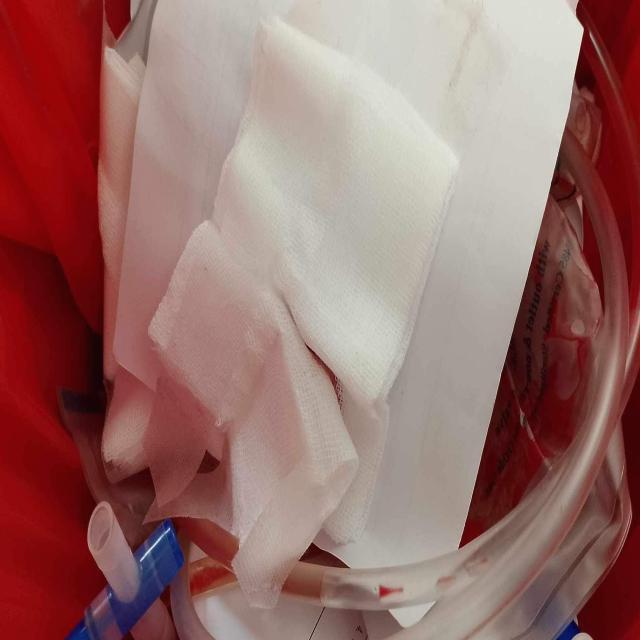General: (6, 2, 637, 637)
Sharps: (65, 516, 186, 638)
